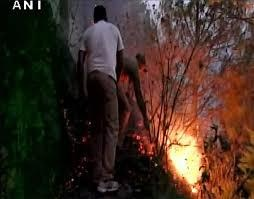fire: (163, 126, 203, 190)
